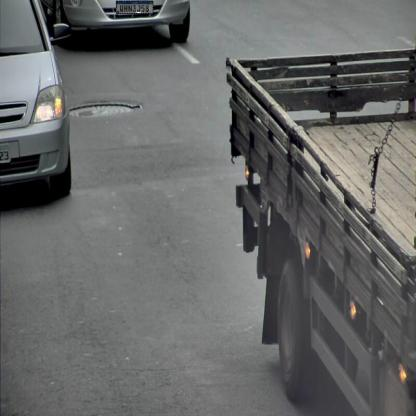PlacaM: (116, 1, 153, 14)
